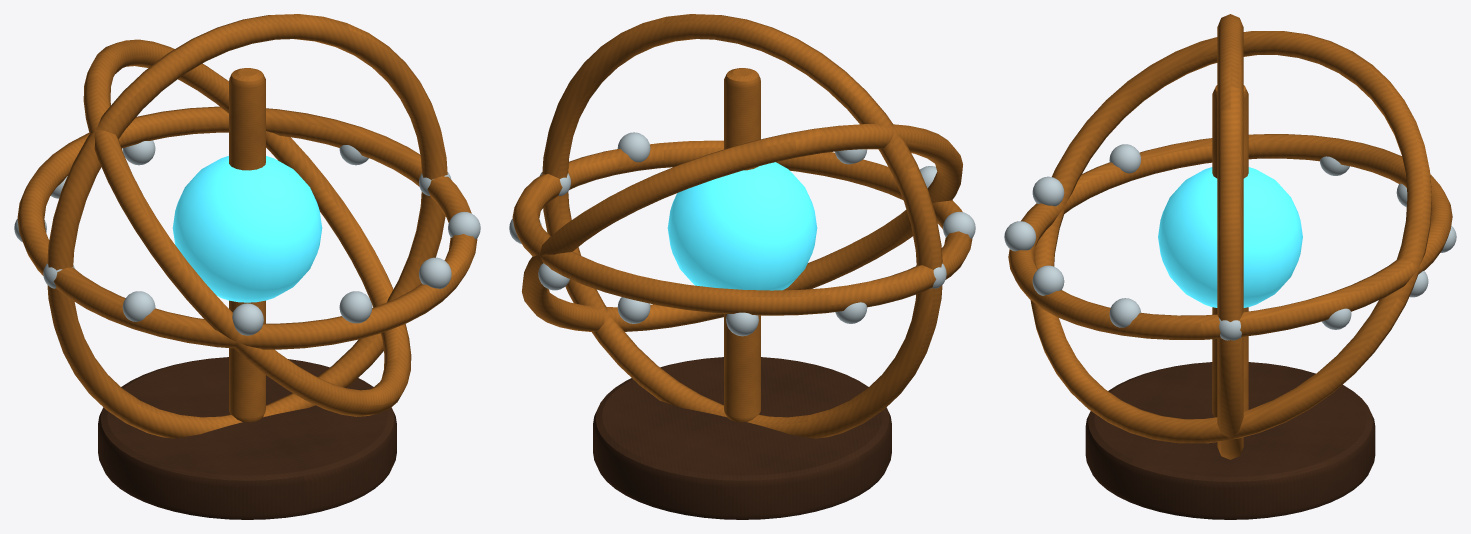
File: relic_08.glb
The picture shows the model from 3 angles, left to right: view 1: azimuth 30°, elevation 25°; view 2: azimuth 150°, elevation 25°; view 3: azimuth 270°, elevation 25°; orthographic projection. The views are drawn at different scales.
Visible parts, largest first — view 1: Brushed_gold, Patinated_bronze, Luminous_aquamarine, Antique_silver; view 2: Brushed_gold, Patinated_bronze, Luminous_aquamarine, Antique_silver; view 3: Brushed_gold, Patinated_bronze, Luminous_aquamarine, Antique_silver.
Part boxes in pixels (x1,y1,x2,y2): Brushed_gold: (17, 14, 477, 438); Patinated_bronze: (98, 357, 396, 519); Luminous_aquamarine: (172, 156, 322, 302); Antique_silver: (14, 140, 480, 335); Brushed_gold: (512, 14, 972, 438); Patinated_bronze: (593, 357, 891, 519); Luminous_aquamarine: (667, 162, 817, 290); Antique_silver: (509, 132, 975, 336); Brushed_gold: (1008, 14, 1452, 459); Patinated_bronze: (1085, 362, 1375, 519); Luminous_aquamarine: (1158, 167, 1302, 307); Antique_silver: (1004, 144, 1456, 340).
Bounding box in the file's own units: 0.624 × 0.6505 × 0.624.
4 materials, 2 textured.
